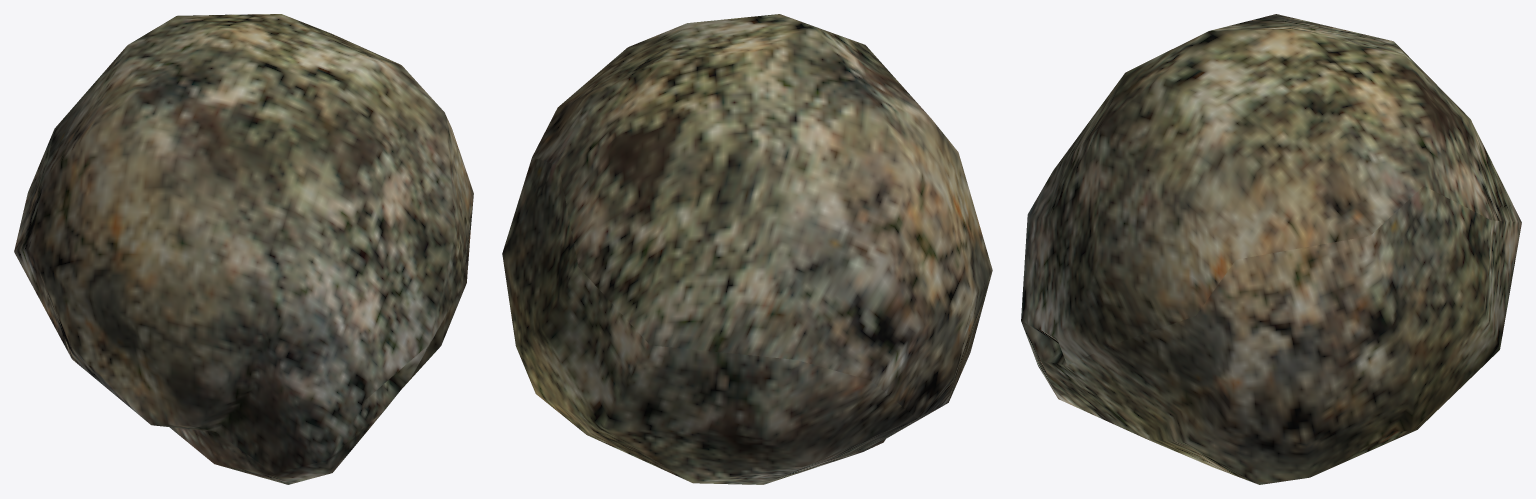
File: Rock01.fbx
The picture shows the model from 3 angles, left to right: view 1: azimuth 30°, elevation 25°; view 2: azimuth 150°, elevation 25°; view 3: azimuth 270°, elevation 25°; orthographic projection. The views are drawn at different scales.
Parts seen in each view (by area): view 1: CoralRock1; view 2: CoralRock1; view 3: CoralRock1.
Part boxes in pixels (bbox=[...]): CoralRock1: bbox=[14, 14, 473, 484]; CoralRock1: bbox=[502, 14, 992, 484]; CoralRock1: bbox=[1021, 14, 1521, 484].
Size of the model in its own units: 53.08 by 50.45 by 56.11.
